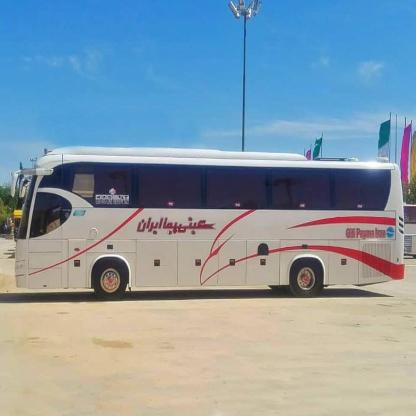Bus: (12, 144, 410, 302)
